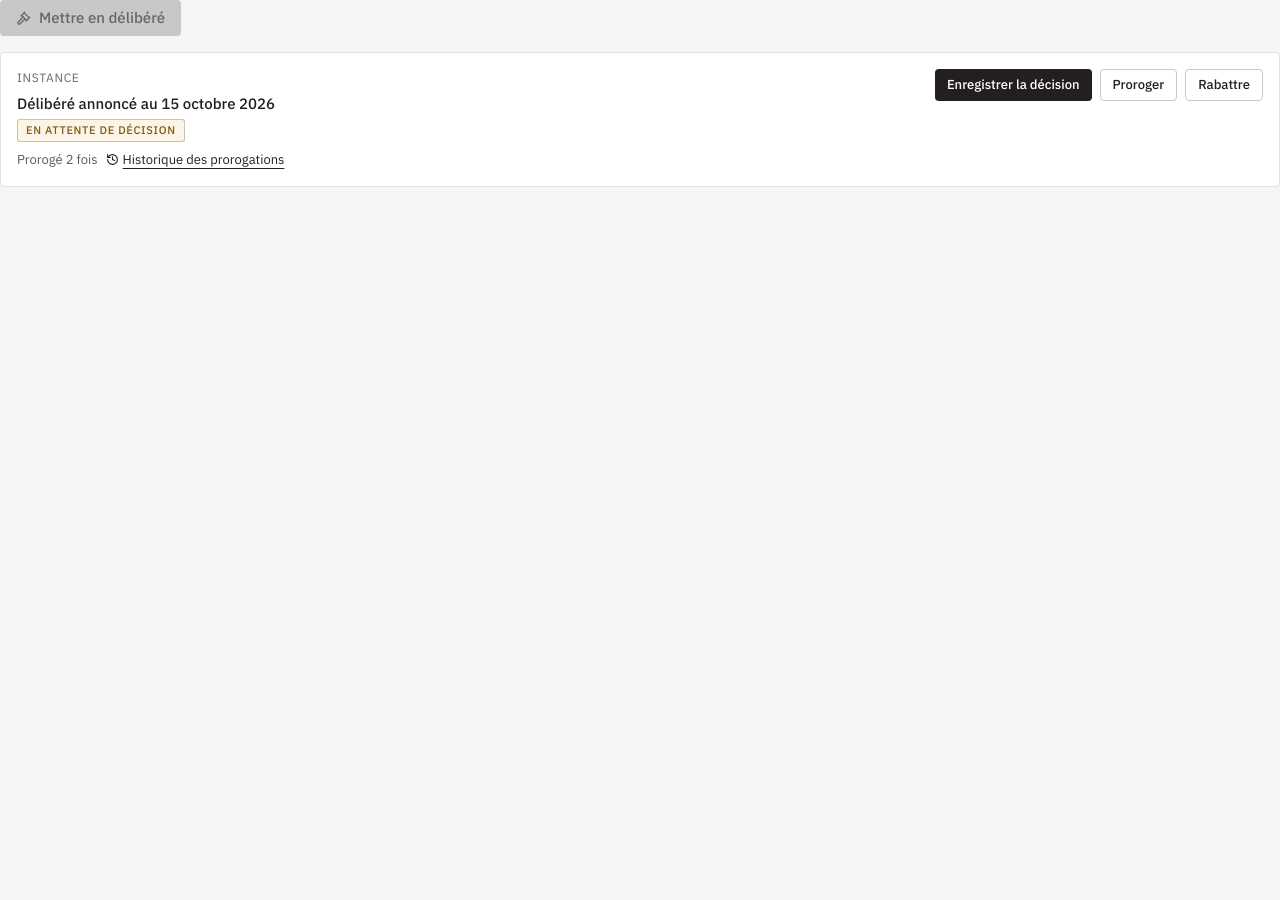
Test: OngletDeliberes - historique des prorogations › dit qu'il n'y a aucune prorogation
Check: the text "Prorogé 2 fois" is shown, box [17, 151, 98, 168]
What coordinates should you click on to do the following:
click the button "Historique des prorogations"
I would click on:
 (195, 160)
Its box is [106, 150, 284, 170].
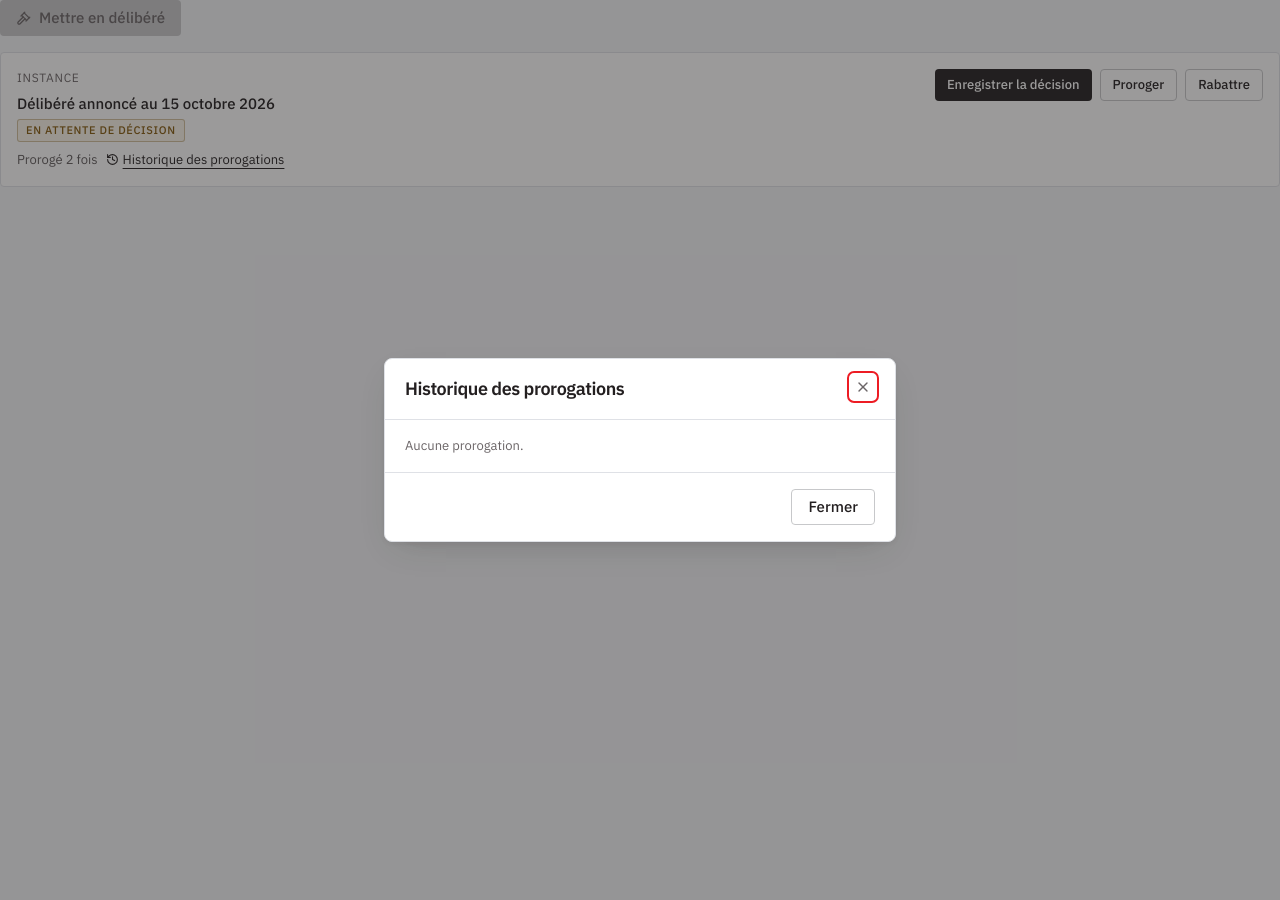
Check: the text "Aucune prorogation." is shown, box [405, 437, 524, 454]
